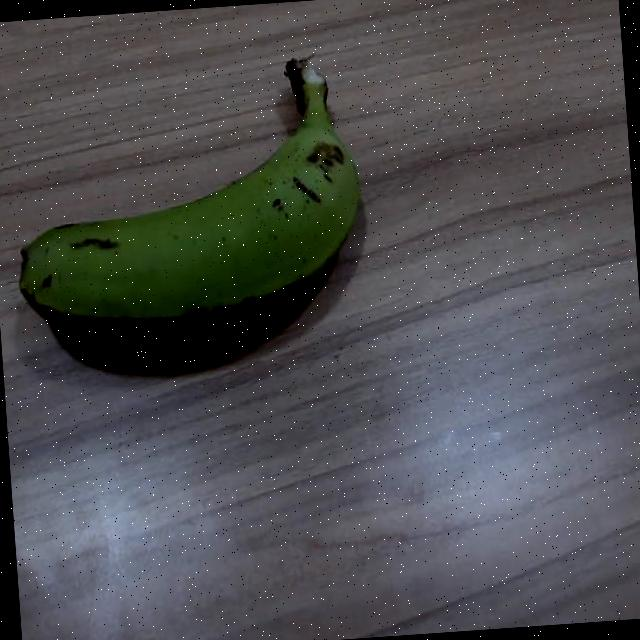Raw: (0, 19, 382, 385)
